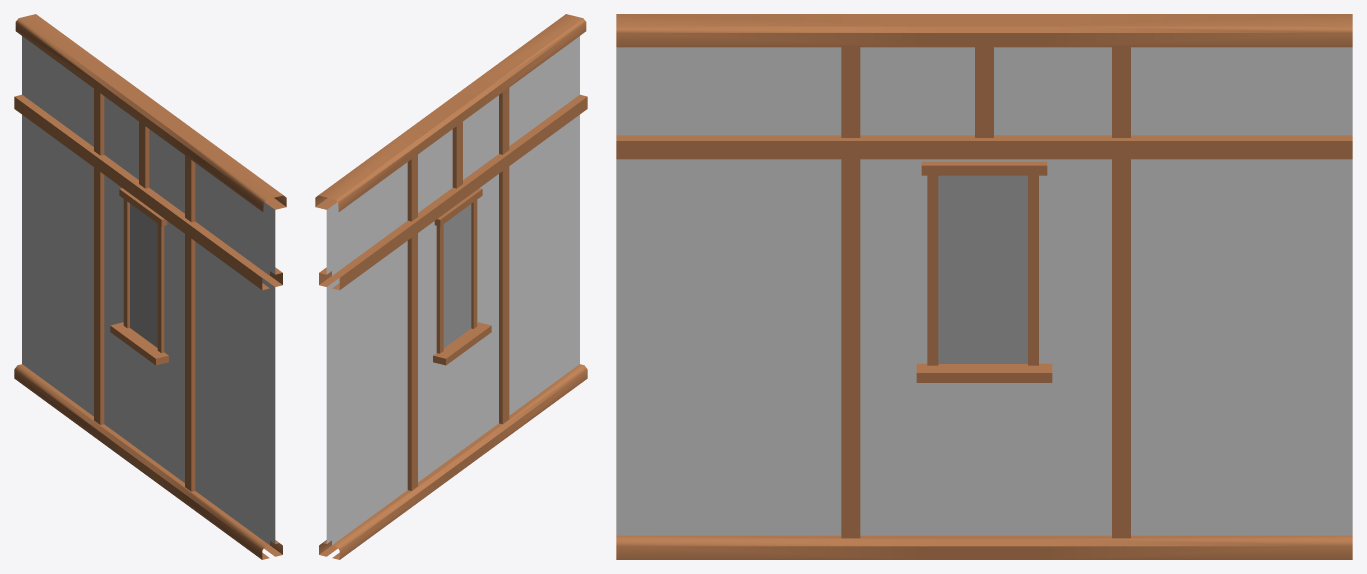
File: Wall_Plaster1.fbx
The picture shows the model from 3 angles, left to right: view 1: azimuth 30°, elevation 25°; view 2: azimuth 150°, elevation 25°; view 3: azimuth 270°, elevation 25°; orthographic projection. The views are drawn at different scales.
Parts seen in each view (by area): view 1: polySurface11; view 2: polySurface11; view 3: polySurface11.
Boxes of the visible parts, bbox=[...] form: polySurface11: bbox=[14, 14, 286, 559]; polySurface11: bbox=[315, 14, 587, 559]; polySurface11: bbox=[616, 14, 1352, 559].
Size of the model in its own units: 0.7281 by 8 by 10.
